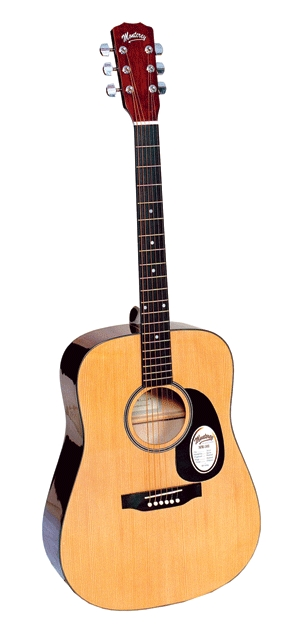guitar: (38, 22, 261, 612)
